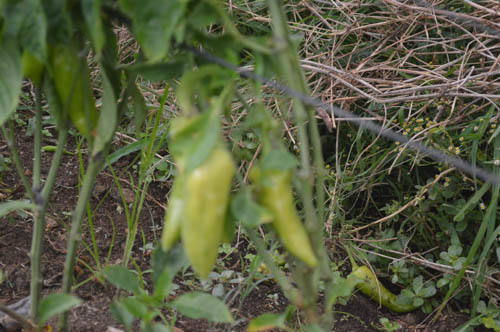ChiliPepper: (185, 155, 229, 281), (262, 167, 317, 266), (55, 51, 101, 132)
